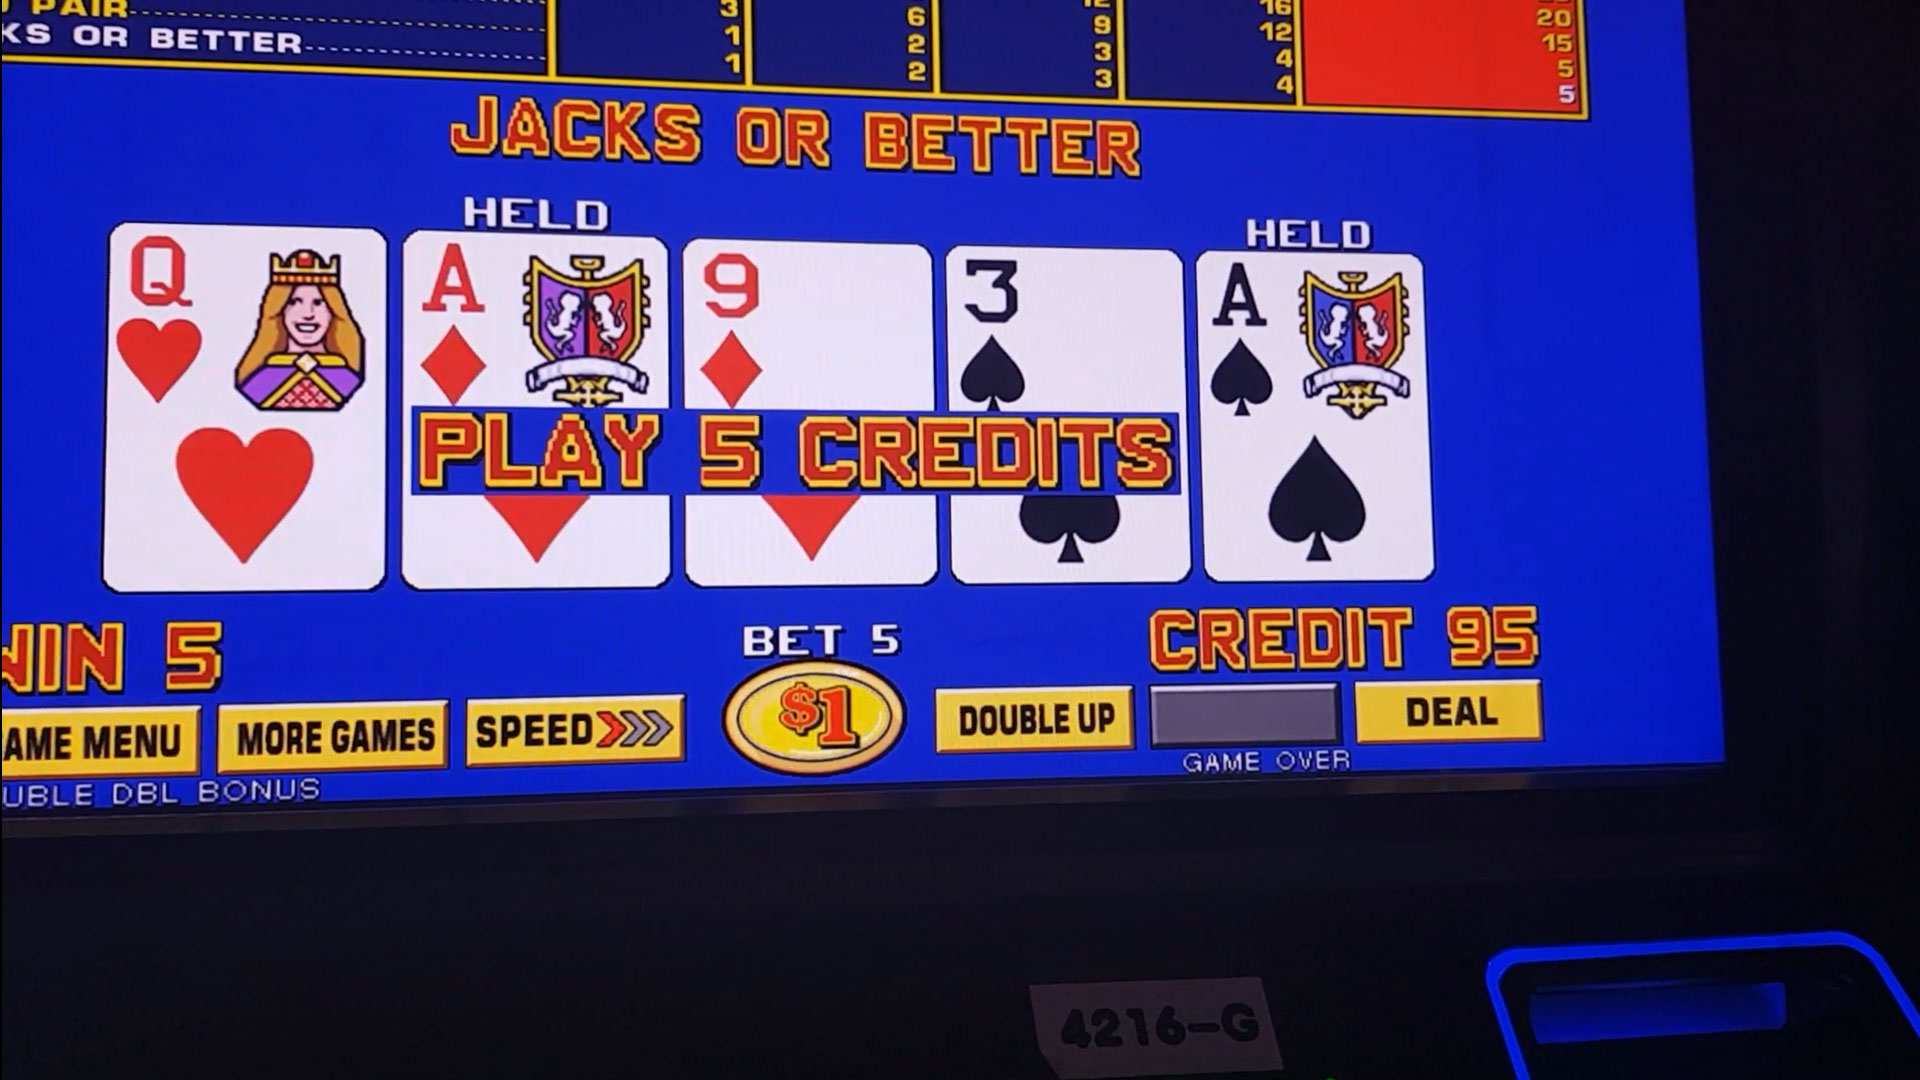D9: (688, 249, 924, 406)
DA: (409, 240, 665, 402)
HQ: (119, 231, 384, 413)
S3: (952, 253, 1178, 407)
SA: (1204, 258, 1420, 427)
